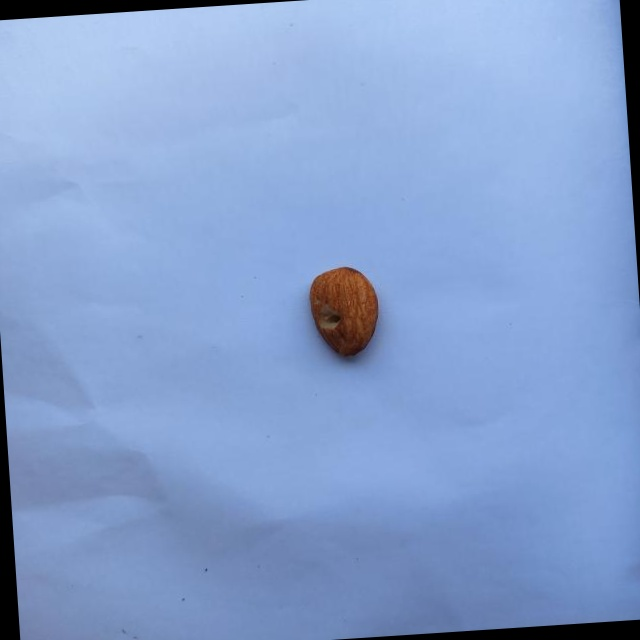grade3: (302, 261, 384, 364)
